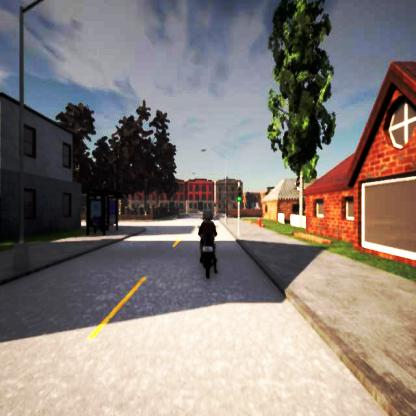motobike: (199, 212, 218, 280)
